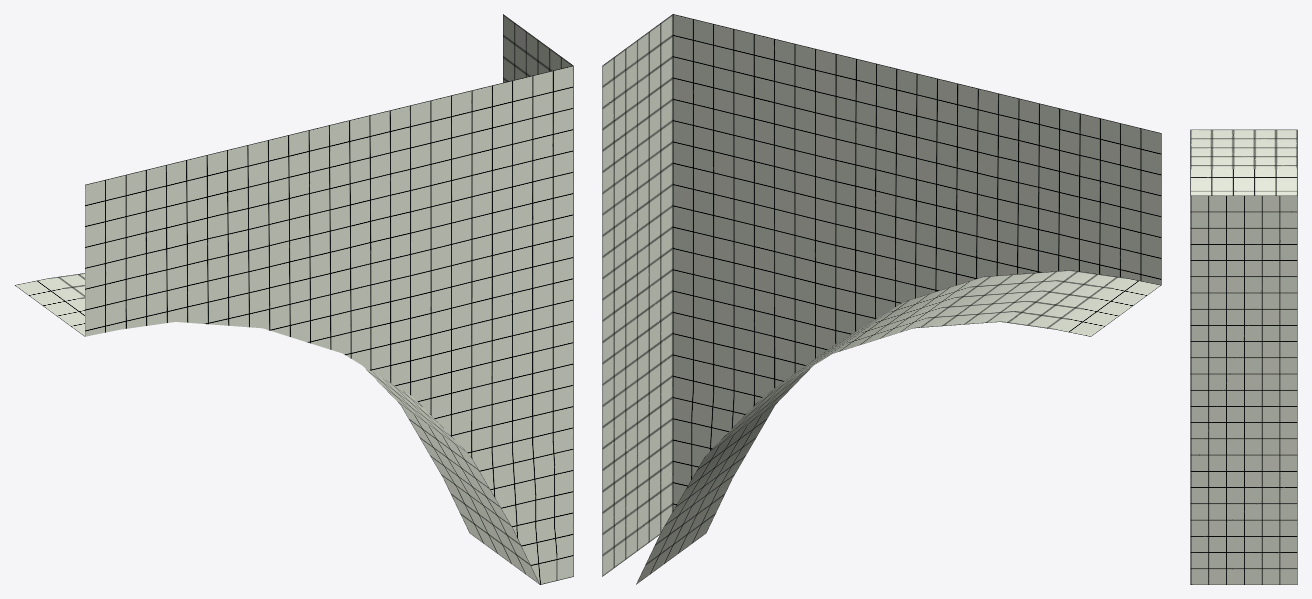
The model's file is Wall_Circle_wide.fbx.
The picture shows the model from 3 angles, left to right: view 1: azimuth 30°, elevation 25°; view 2: azimuth 150°, elevation 25°; view 3: azimuth 270°, elevation 25°; orthographic projection. The views are drawn at different scales.
Visible parts, largest first — view 1: Wall_Circle_wide; view 2: Wall_Circle_wide; view 3: Wall_Circle_wide.
Boxes of the visible parts, x1,y1,x2,y2 form: Wall_Circle_wide: [15, 14, 573, 584]; Wall_Circle_wide: [602, 14, 1161, 584]; Wall_Circle_wide: [1190, 129, 1297, 584].
Bounding box in the file's own units: 400 × 400 × 100.
